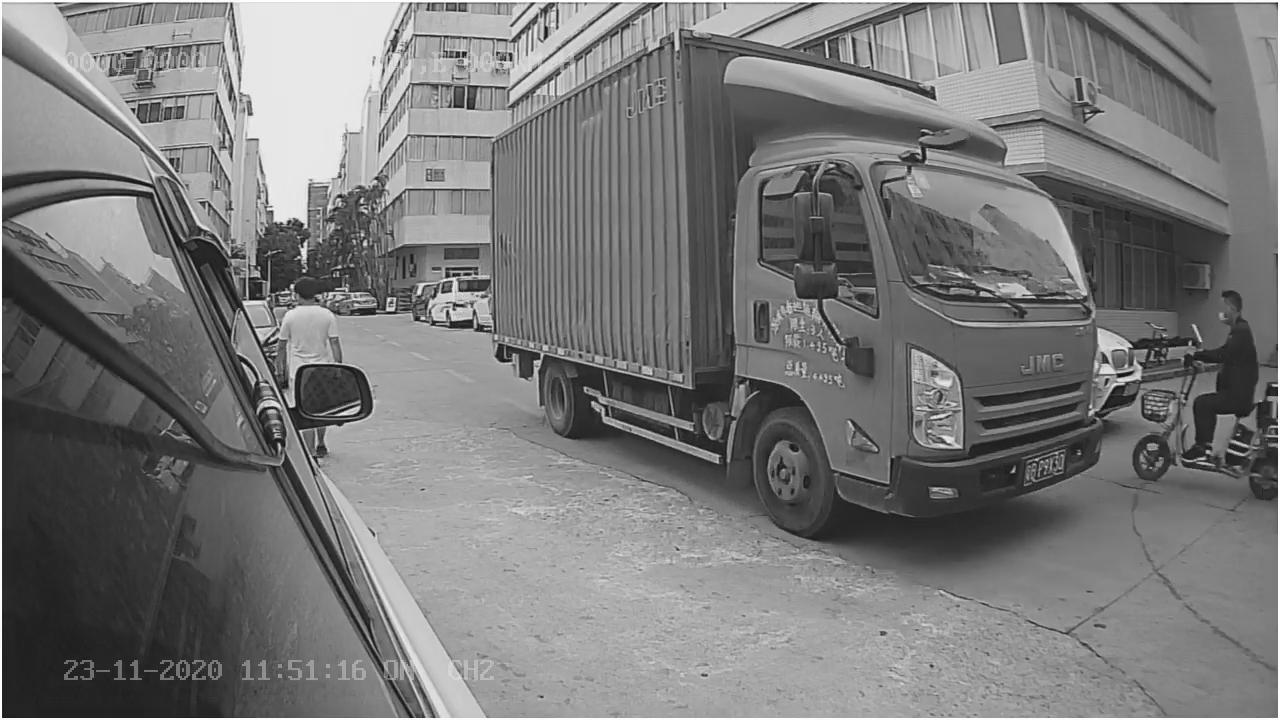person: (1184, 275, 1263, 392)
